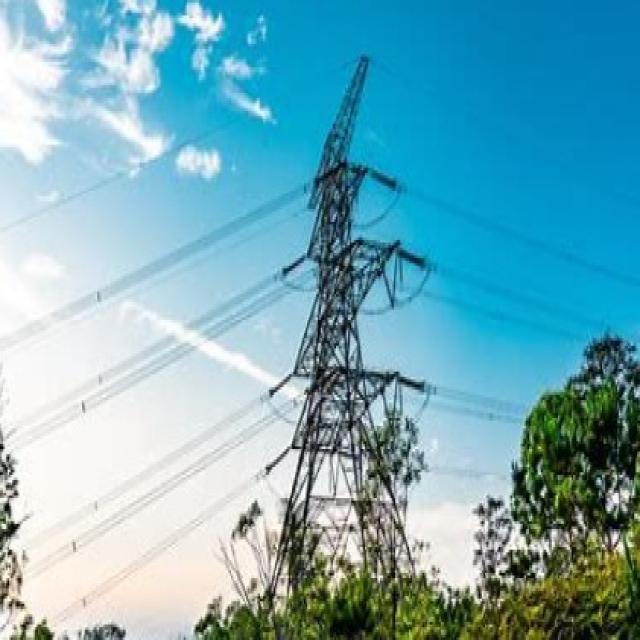utility poles: (489, 299, 620, 522), (352, 356, 435, 555)
